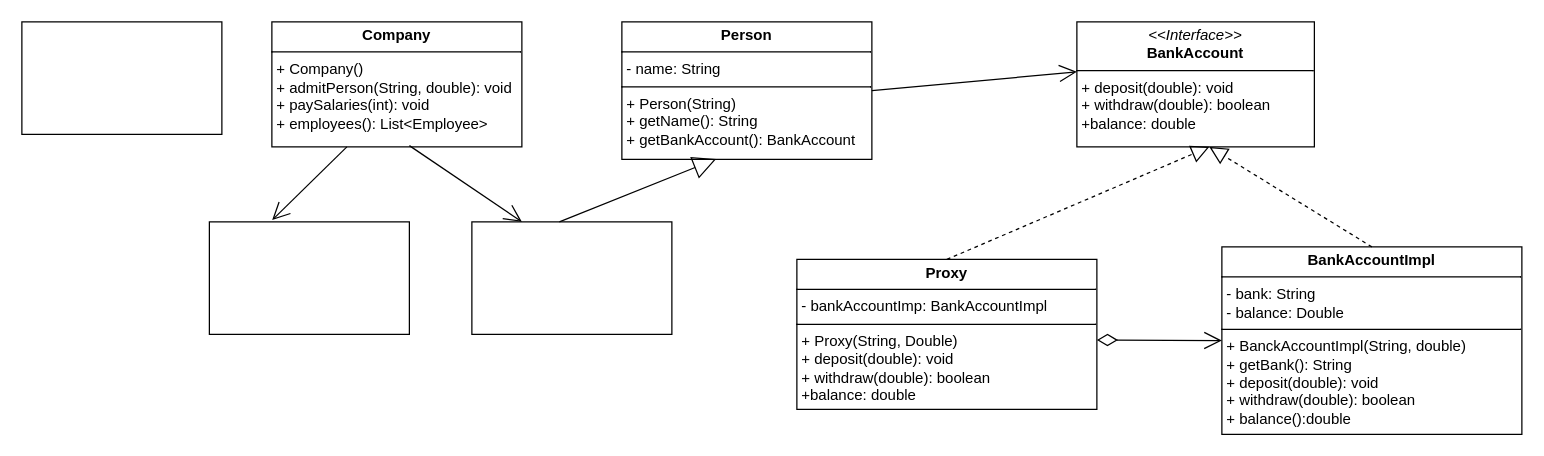
Image size: 1544x456. Some labels were removed from this diagram. Each missing label, with the centre of its shape:
"Employee - salary: double + Employee(String, double) + getSalary(): double" belongs at point 571,277.
"SharkCompany + SharkCompany() + main(String[]): void" belongs at point 121,77.
"User - OWNER: User - COMPANY: User + User()" belongs at point 308,277.
